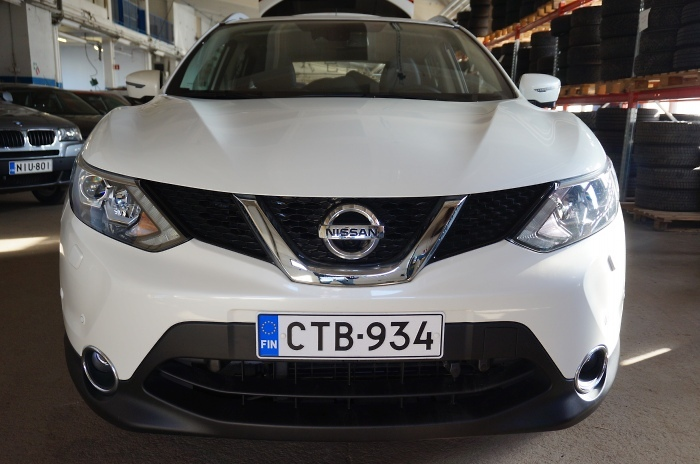license: (254, 309, 440, 363)
